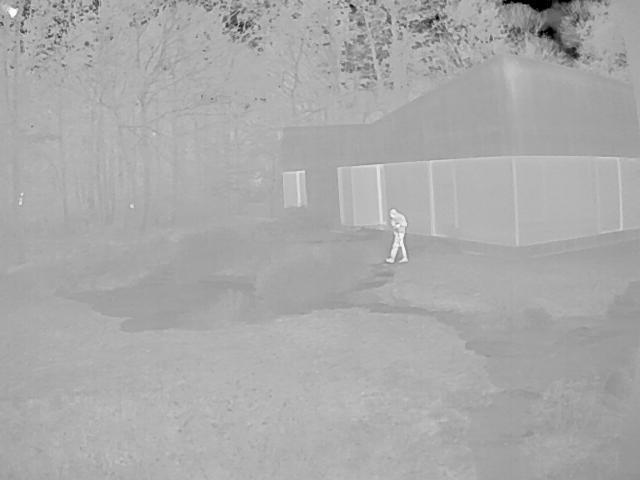person: (386, 208, 410, 263)
